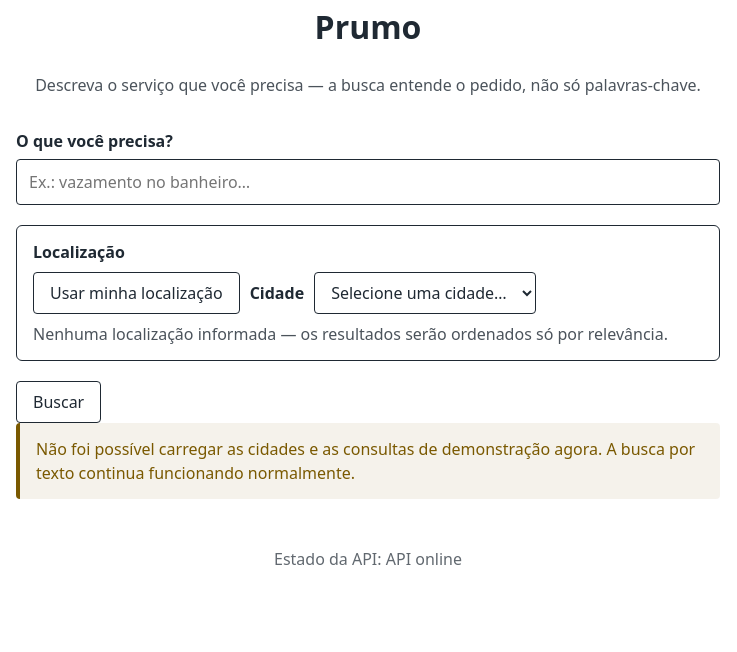
Test case: App — tela de busca › falha ao carregar /options: avisa, mas a busca por texto continua funcionando
This screenshot has width=737, height=652.
expect the text "Não foi possível carregar as cidades" is shown: met, box [36,438,695,484]
Type "vazamento no banheiro" into the field labelled "O que você precisa?". click: point(368, 182)
box: [16,159,720,205]
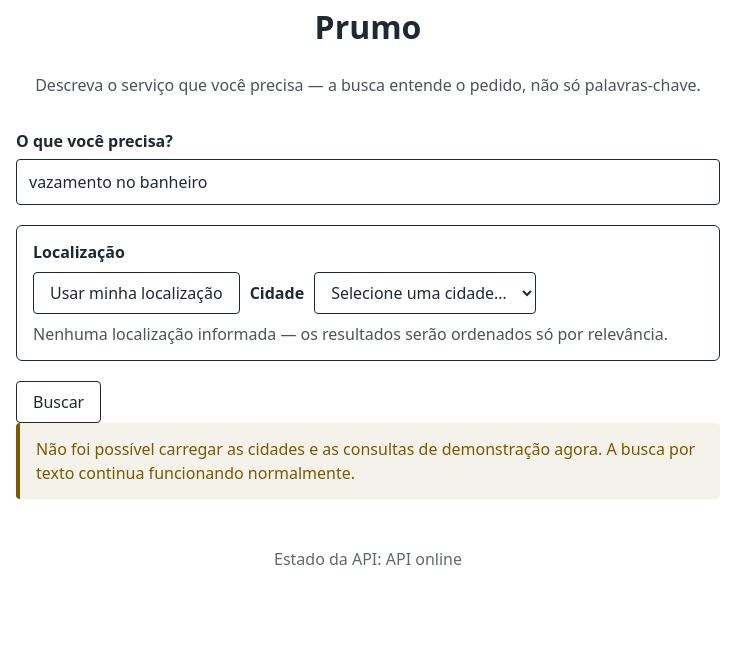
Click the button "Buscar". click: point(59, 402)
box: [16,381,101,423]
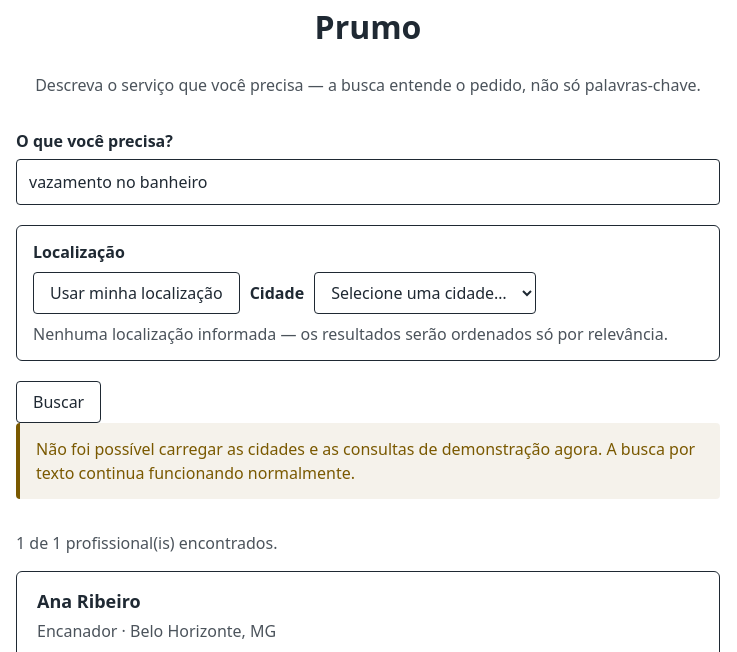
expect the text "1 de 1 profissional(is) encontrados." is shown: met, box [16,532,278,554]
